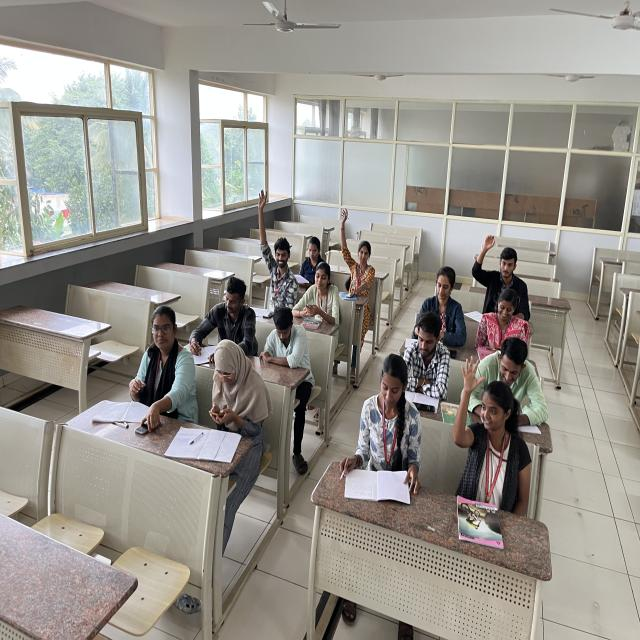Hand Rising: (450, 354, 532, 489), (256, 184, 298, 304), (472, 234, 530, 302), (336, 208, 375, 292)
Reading: (353, 353, 416, 488)
Using Phone: (199, 342, 263, 429), (475, 287, 528, 356), (292, 262, 342, 324)
Writing: (190, 276, 256, 362)
